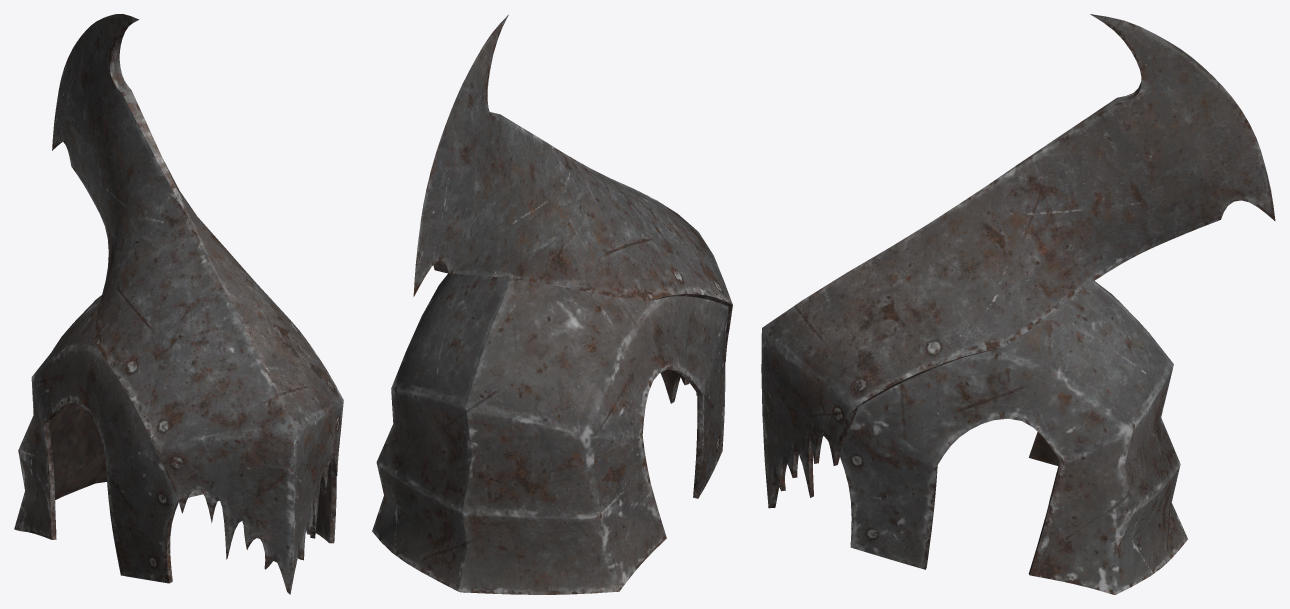
File: sk_gb_uruk_helmet_heavy_d.fbx
3 views of the same model, side by side, from view 1: azimuth 30°, elevation 25°; view 2: azimuth 150°, elevation 25°; view 3: azimuth 270°, elevation 25° (orthographic). The views are drawn at different scales.
Parts seen in each view (by area): view 1: sk_gb_uruk_helmet_heavy_d; view 2: sk_gb_uruk_helmet_heavy_d; view 3: sk_gb_uruk_helmet_heavy_d.
Part boxes in pixels (left/top/right/bottom): sk_gb_uruk_helmet_heavy_d: left=14, top=14, right=343, bottom=594; sk_gb_uruk_helmet_heavy_d: left=372, top=14, right=732, bottom=594; sk_gb_uruk_helmet_heavy_d: left=761, top=14, right=1275, bottom=594.
Size of the model in its own units: 0.2123 by 0.3837 by 0.4344.
Materials: 1 (1 with a texture image).
